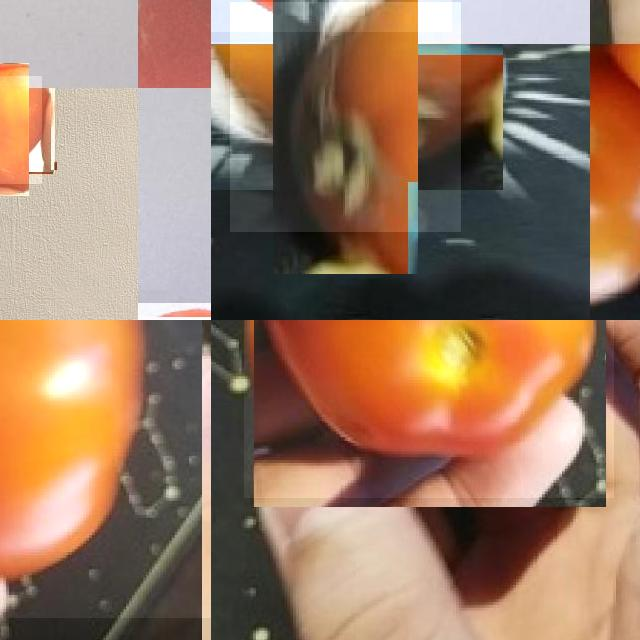0: (230, 2, 461, 232), (590, 44, 640, 320), (0, 75, 41, 184)
Fresh Tomato: (244, 320, 614, 498), (0, 320, 211, 618)
